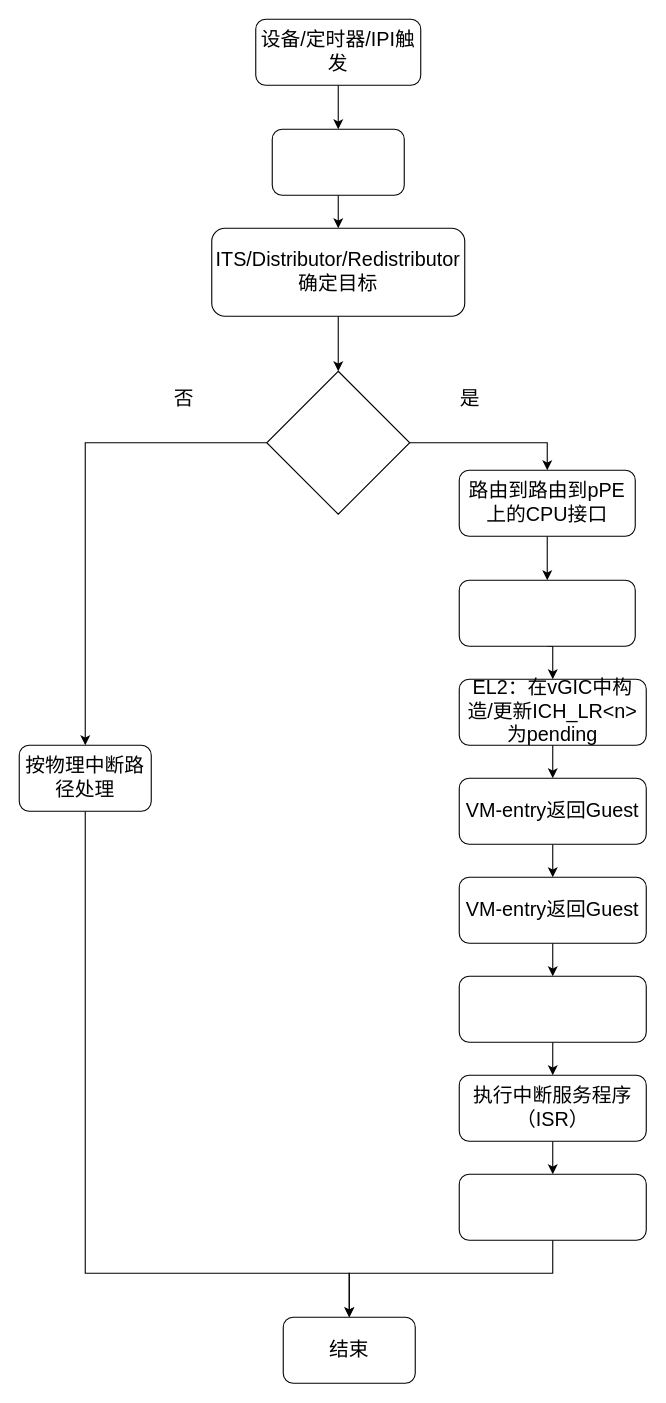
Some shapes in this 666 by 1403 pixel diagram are drawn without their labels. Each missing label, with the centre of its shape:
"EL2清除LR/更新中断状态" goes at [552,1206].
"GIC路由" goes at [337,161].
"Guest读取ICC_IAR1_EL1取出中断号" goes at [552,1008].
"VM-exit到EL2/进入 Hypervisor" goes at [546,612].
"是虚拟中断吗？" goes at [338,442].
